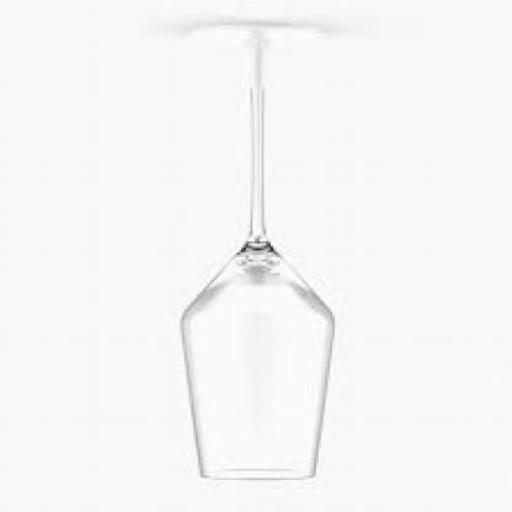glass: (175, 22, 332, 483)
